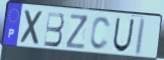B: (42, 11, 65, 48)
C: (89, 15, 112, 52)
I: (133, 17, 147, 57)
U: (111, 17, 136, 54)
X: (20, 9, 45, 47)
Z: (66, 13, 89, 51)
